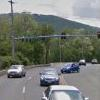Traffic light: (14, 29, 47, 53)
